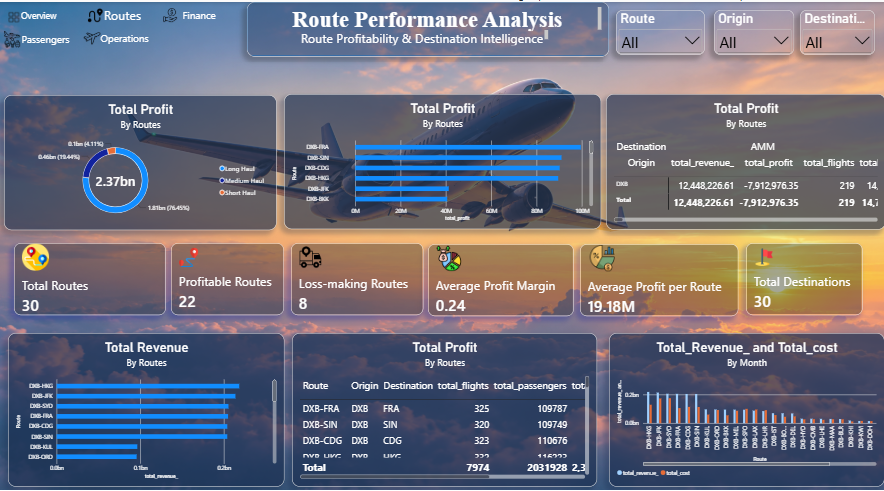

The page's visual inventory and layout, read from the dashboard file:
{"tool":"powerbi","page":{"name":"Route Performance Analysis","canvas":[1920,1080],"ordinal":1},"visuals":[{"type":"clusteredBarChart","title":"Total Revenue","fields":{"Category":["route_details.Route"],"Y":["calculation_tbl.total_revenue_"]},"box":[18.8,715.8,596.9,331.8],"z":0},{"type":"clusteredBarChart","title":"Total Profit","fields":{"Category":["route_details.Route"],"Y":["calculation_tbl.total_profit"]},"box":[615.3,199.1,684.5,292.2],"z":1000},{"type":"clusteredColumnChart","title":"Total_Revenue_ and Total_cost","fields":{"Category":["route_details.Route"],"Y":["calculation_tbl.total_revenue_","calculation_tbl.total_cost"]},"box":[1316.9,715.8,594.8,331.8],"z":2000},{"type":"cardVisual","fields":{"Data":["calculation_tbl.Profitable Routes"]},"box":[371,521.2,244.3,155.6],"z":3000},{"type":"cardVisual","fields":{"Data":["calculation_tbl.Average Profit per Route"]},"box":[1255.9,523,342,155.6],"z":4000},{"type":"cardVisual","fields":{"Data":["calculation_tbl.Average Profit Margin"]},"box":[926.5,523,314.9,155.6],"z":5000},{"type":"cardVisual","fields":{"Data":["calculation_tbl.Loss-making Routes"]},"box":[631.6,521.2,285.9,155.6],"z":6000},{"type":"cardVisual","fields":{"Data":["calculation_tbl.Total Destinations"]},"box":[1614.2,521.2,251.5,155.6],"z":7000},{"type":"slicer","fields":{"Values":["route_details.Route"]},"box":[1331.9,16.3,193.6,63.3],"z":8000},{"type":"slicer","fields":{"Values":["route_details.Origin"]},"box":[1543.6,16.3,173.7,63.3],"z":9000},{"type":"slicer","fields":{"Values":["route_details.Destination"]},"box":[1730,18.1,162.9,63.3],"z":10000},{"type":"shape","box":[535.7,0,781.8,117.6],"z":11000},{"type":"textbox","box":[557.4,10.9,743.8,52.5],"z":12000},{"type":"textbox","box":[649.7,59.7,535.7,32.6],"z":13000},{"type":"donutChart","title":"Total Profit","fields":{"Category":["route_details.Route_Category"],"Y":["calculation_tbl.total_revenue_"]},"box":[10.4,200.3,588.5,292.2],"z":14000},{"type":"pivotTable","title":"Total Profit","fields":{"Columns":["route_details.Destination"],"Rows":["route_details.Origin"],"Values":["calculation_tbl.total_revenue_","calculation_tbl.total_profit","calculation_tbl.total_flights"]},"box":[1310.2,199.1,604.4,293.2],"z":15000},{"type":"tableEx","title":"Total Profit","fields":{"Values":["route_details.Route","route_details.Origin","route_details.Destination","calculation_tbl.total_flights","calculation_tbl.total_passengers","calculation_tbl.total_revenue_","calculation_tbl.total_profit"]},"box":[632.3,715.8,659.5,331.8],"z":16000},{"type":"cardVisual","fields":{"Data":["calculation_tbl.total_routes"]},"box":[32.6,521.2,327.5,155.6],"z":17000},{"type":"actionButton","box":[169,10.6,169,36.1],"z":18000},{"type":"actionButton","box":[16.7,12.8,133.6,38.3],"z":19000},{"type":"image","box":[2.1,17,59.7,31.3],"z":20000},{"type":"textbox","box":[47.1,18.1,85.6,34],"z":21000},{"type":"actionButton","box":[175.5,57.9,173.2,40.4],"z":22000},{"type":"actionButton","box":[10.4,63.8,139.8,48.9],"z":23000},{"type":"textbox","box":[168.3,10.9,152.3,36.1],"z":24000},{"type":"image","box":[187.8,10.6,39.7,36.1],"z":25000},{"type":"textbox","box":[367.4,12.7,129.4,38.3],"z":26000},{"type":"image","box":[352.7,0,35.5,57.4],"z":27000},{"type":"textbox","box":[19.9,65.1,141.9,31.9],"z":28000},{"type":"image","box":[10.4,55.3,35.5,48.9],"z":29000},{"type":"textbox","box":[208.1,63.3,119,34],"z":30000},{"type":"image","box":[175.5,61.5,52.5,36.2],"z":31000}]}

Visuals, with their boxes on the page's 1920x1080 design canvas (x1, y1, x2, y2). These are canvas units, not pixel positions in the 884x491 screenshot, which may show the page scaled, cropped or inside an application window:
"Total Revenue" clusteredBarChart: [x1=19, y1=716, x2=616, y2=1048]
"Total Profit" clusteredBarChart: [x1=615, y1=199, x2=1300, y2=491]
"Total_Revenue_ and Total_cost" clusteredColumnChart: [x1=1317, y1=716, x2=1912, y2=1048]
cardVisual - calculation_tbl.Profitable Routes: [x1=371, y1=521, x2=615, y2=677]
cardVisual - calculation_tbl.Average Profit per Route: [x1=1256, y1=523, x2=1598, y2=679]
cardVisual - calculation_tbl.Average Profit Margin: [x1=926, y1=523, x2=1241, y2=679]
cardVisual - calculation_tbl.Loss-making Routes: [x1=632, y1=521, x2=918, y2=677]
cardVisual - calculation_tbl.Total Destinations: [x1=1614, y1=521, x2=1866, y2=677]
slicer - route_details.Route: [x1=1332, y1=16, x2=1526, y2=80]
slicer - route_details.Origin: [x1=1544, y1=16, x2=1717, y2=80]
slicer - route_details.Destination: [x1=1730, y1=18, x2=1893, y2=81]
shape: [x1=536, y1=0, x2=1318, y2=118]
textbox: [x1=557, y1=11, x2=1301, y2=63]
textbox: [x1=650, y1=60, x2=1185, y2=92]
"Total Profit" donutChart: [x1=10, y1=200, x2=599, y2=492]
"Total Profit" pivotTable: [x1=1310, y1=199, x2=1915, y2=492]
"Total Profit" tableEx: [x1=632, y1=716, x2=1292, y2=1048]
cardVisual - calculation_tbl.total_routes: [x1=33, y1=521, x2=360, y2=677]
actionButton: [x1=169, y1=11, x2=338, y2=47]
actionButton: [x1=17, y1=13, x2=150, y2=51]
image: [x1=2, y1=17, x2=62, y2=48]
textbox: [x1=47, y1=18, x2=133, y2=52]
actionButton: [x1=176, y1=58, x2=349, y2=98]
actionButton: [x1=10, y1=64, x2=150, y2=113]
textbox: [x1=168, y1=11, x2=321, y2=47]
image: [x1=188, y1=11, x2=228, y2=47]
textbox: [x1=367, y1=13, x2=497, y2=51]
image: [x1=353, y1=0, x2=388, y2=57]
textbox: [x1=20, y1=65, x2=162, y2=97]
image: [x1=10, y1=55, x2=46, y2=104]
textbox: [x1=208, y1=63, x2=327, y2=97]
image: [x1=176, y1=62, x2=228, y2=98]
